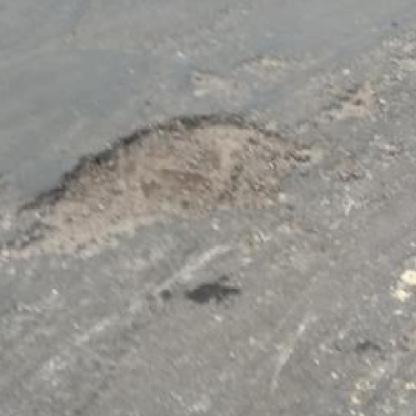pothole: (0, 107, 310, 261)
